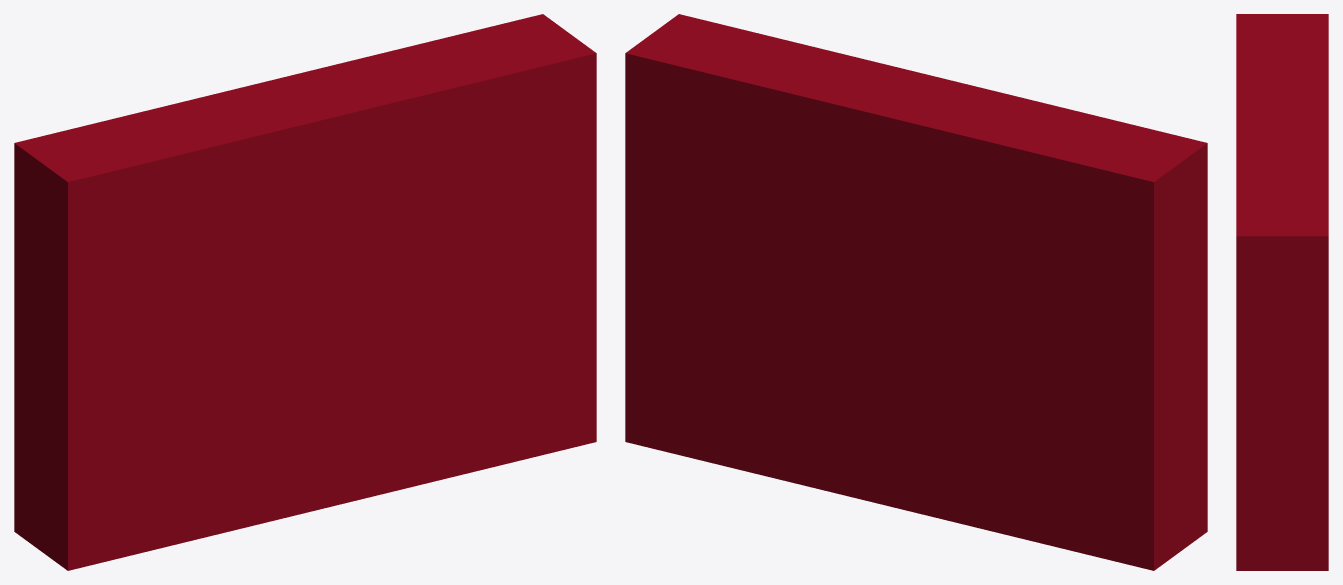
File: Wall_L.fbx
The picture shows the model from 3 angles, left to right: view 1: azimuth 30°, elevation 25°; view 2: azimuth 150°, elevation 25°; view 3: azimuth 270°, elevation 25°; orthographic projection. The views are drawn at different scales.
Visible parts, largest first — view 1: Wall_R38, Wall_R10, Wall_R39, Wall_R54, Wall_R21, Wall_R02, Wall_R36, Wall_R26, Wall_R09, Wall_R46, Wall_R51, Wall_R16 (+32 smaller); view 2: Wall_R35, Wall_R48, Wall_R15, Wall_R04, Wall_R22, Wall_R10, Wall_R17, Wall_R01, Wall_R23, Wall_R05, Wall_R40, Wall_R11 (+29 smaller); view 3: Wall_R24, Wall_R10, Wall_R45, Wall_R28, Wall_R38, Wall_R48, Wall_R35, Wall_R06, Wall_R14, Wall_R31, Wall_R07, Wall_R26 (+10 smaller).
Part boxes in pixels (x1=…): Wall_R38: x1=23, y1=128, x2=188, y2=250; Wall_R10: x1=266, y1=56, x2=435, y2=172; Wall_R39: x1=158, y1=384, x2=307, y2=510; Wall_R54: x1=28, y1=459, x2=180, y2=570; Wall_R21: x1=294, y1=361, x2=412, y2=501; Wall_R02: x1=363, y1=263, x2=484, y2=394; Wall_R36: x1=21, y1=270, x2=155, y2=388; Wall_R26: x1=471, y1=174, x2=596, y2=298; Wall_R09: x1=450, y1=51, x2=560, y2=156; Wall_R46: x1=204, y1=107, x2=321, y2=207; Wall_R51: x1=90, y1=164, x2=198, y2=299; Wall_R16: x1=412, y1=351, x2=538, y2=458; Wall_R35: x1=676, y1=46, x2=826, y2=204; Wall_R48: x1=965, y1=106, x2=1093, y2=252; Wall_R15: x1=893, y1=409, x2=1052, y2=545; Wall_R04: x1=1042, y1=450, x2=1175, y2=570; Wall_R22: x1=710, y1=364, x2=834, y2=492; Wall_R10: x1=799, y1=53, x2=980, y2=160; Wall_R17: x1=672, y1=212, x2=774, y2=381; Wall_R01: x1=869, y1=108, x2=980, y2=243; Wall_R23: x1=839, y1=213, x2=948, y2=316; Wall_R05: x1=840, y1=311, x2=951, y2=409; Wall_R40: x1=950, y1=308, x2=1034, y2=453; Wall_R11: x1=1079, y1=343, x2=1171, y2=472; Wall_R24: x1=1236, y1=210, x2=1328, y2=290; Wall_R10: x1=1236, y1=108, x2=1328, y2=170; Wall_R45: x1=1269, y1=421, x2=1328, y2=503; Wall_R28: x1=1236, y1=271, x2=1301, y2=374; Wall_R38: x1=1236, y1=14, x2=1328, y2=64; Wall_R48: x1=1236, y1=39, x2=1328, y2=95; Wall_R35: x1=1236, y1=163, x2=1328, y2=213; Wall_R06: x1=1291, y1=276, x2=1328, y2=380; Wall_R14: x1=1236, y1=403, x2=1282, y2=483; Wall_R31: x1=1236, y1=481, x2=1299, y2=528; Wall_R07: x1=1236, y1=517, x2=1282, y2=570; Wall_R26: x1=1236, y1=374, x2=1306, y2=411.
Size of the model in its own units: 2.85 by 2 by 0.5.
